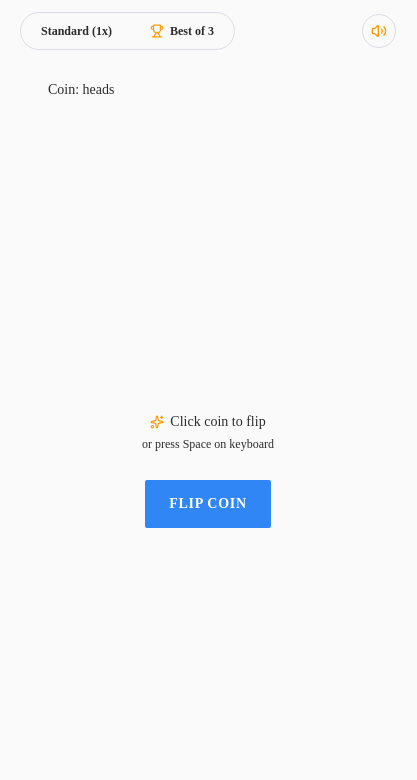
Test: CoinFlip — flip mechanics › the coin stub receives side="tails" when Math.random >= 0.5
Click the button "Flip Coin" at (208, 504), box [145,480,271,528]
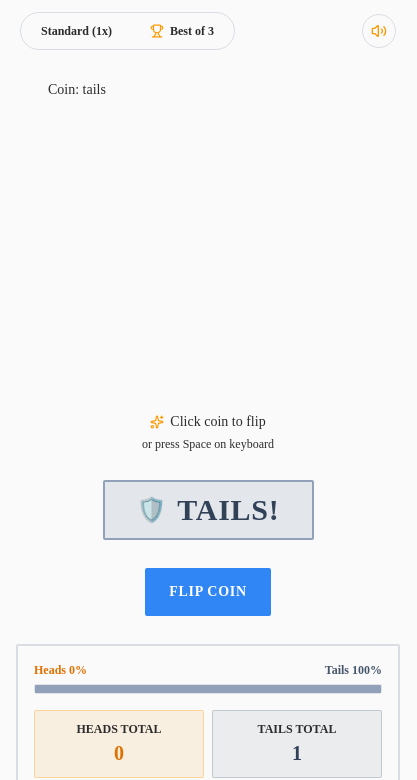
Result: the text "Tails!" is shown at [177,492,280,528]
